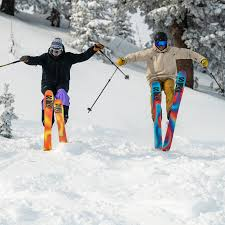skis: (149, 70, 188, 154), (41, 88, 68, 150)
